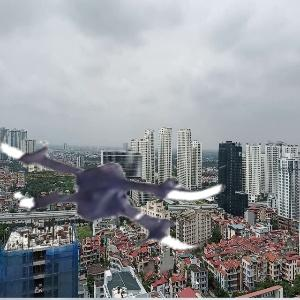drone: (4, 62, 228, 286)
